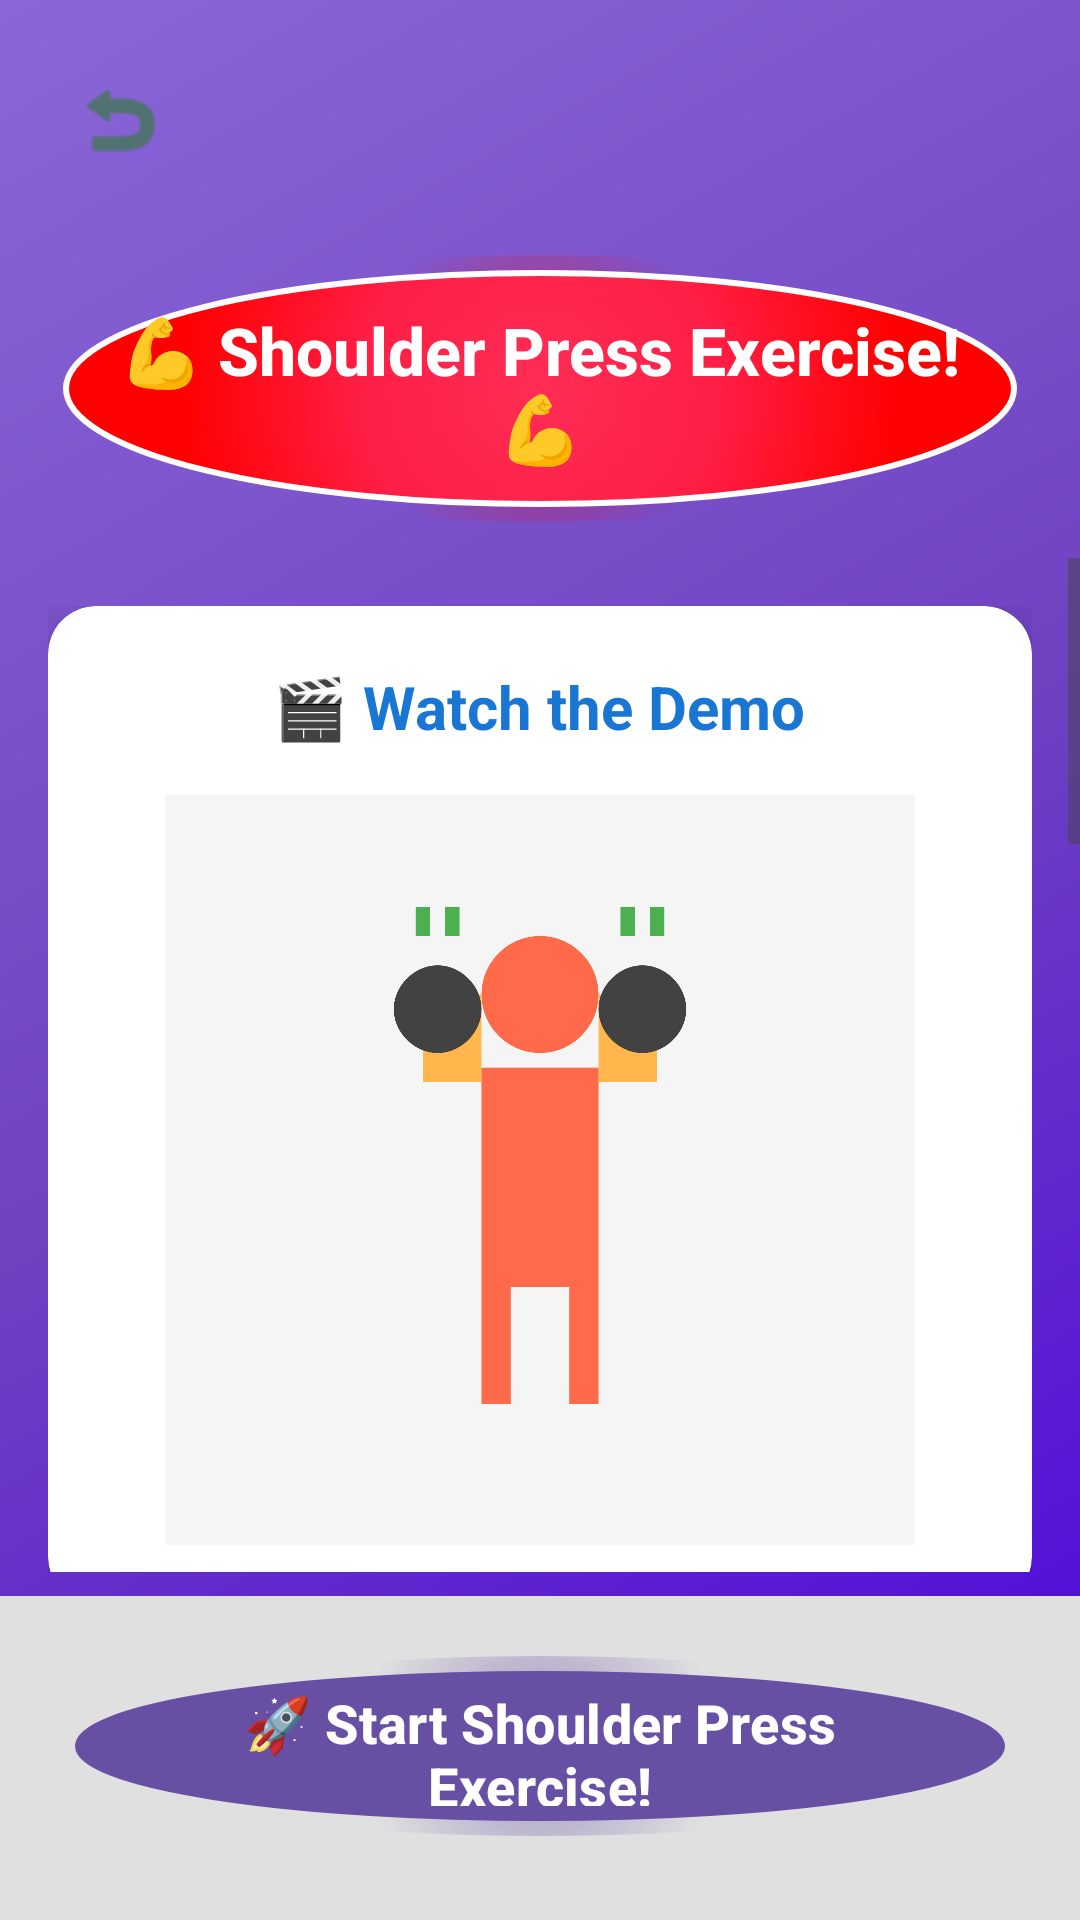

Where to tap for icons on this 1080x1920 app screen, as (x,y):
Back: (121,121)
